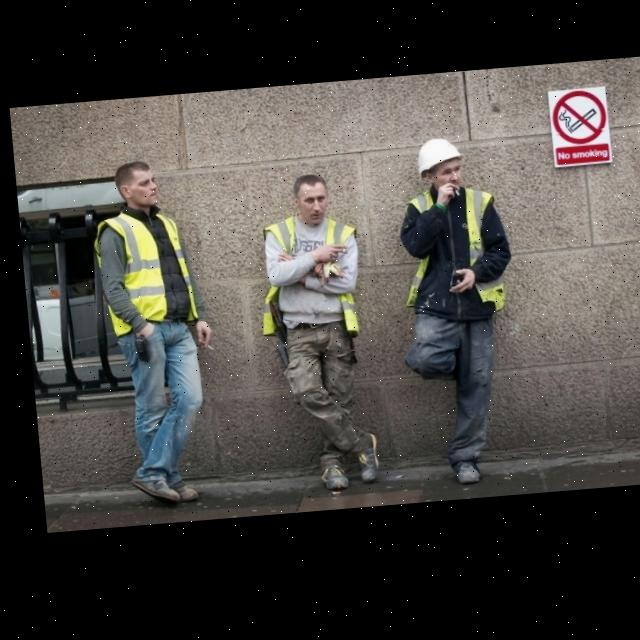cigarette: (196, 343, 208, 353), (450, 195, 456, 203), (338, 253, 341, 258)
